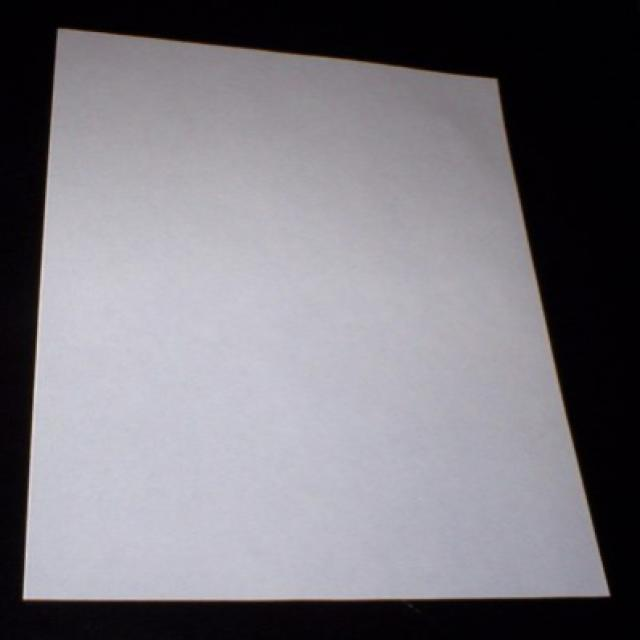biodegradable: (10, 18, 606, 630)
